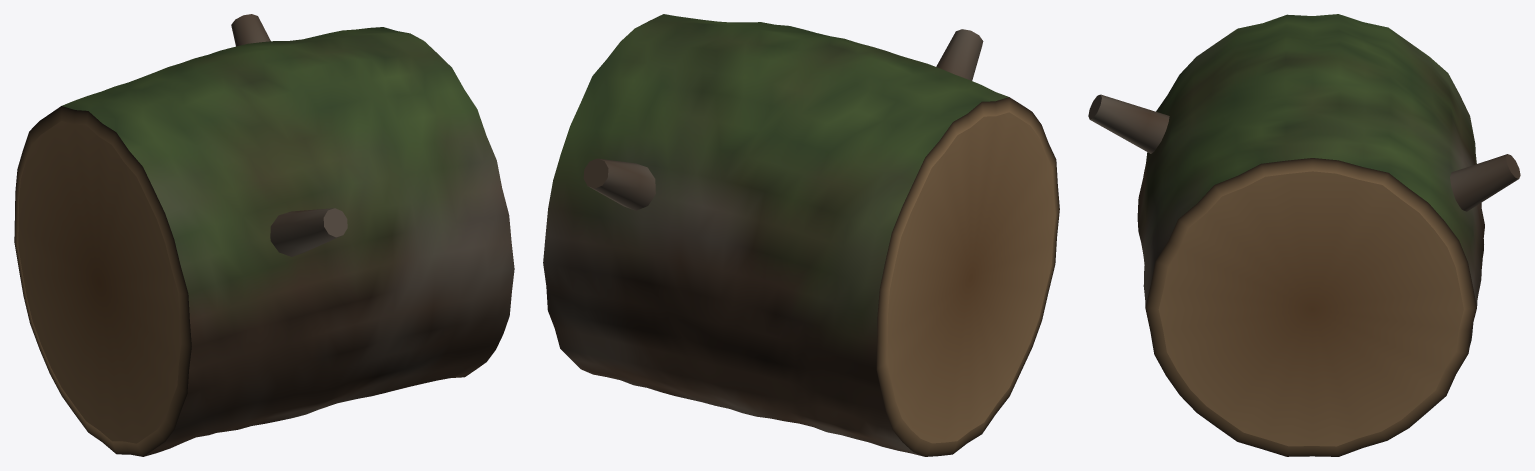
The model's file is fallen-log.glb.
The picture shows the model from 3 angles, left to right: view 1: azimuth 30°, elevation 25°; view 2: azimuth 150°, elevation 25°; view 3: azimuth 270°, elevation 25°; orthographic projection. The views are drawn at different scales.
Parts seen in each view (by area): view 1: fallen-log; view 2: fallen-log; view 3: fallen-log.
Boxes of the visible parts, <box> form: fallen-log: <box>14,14,514,456</box>; fallen-log: <box>543,14,1059,456</box>; fallen-log: <box>1088,14,1520,456</box>.
Size of the model in its own units: 1.02 by 1.02 by 1.26.
